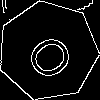O: (23, 25, 84, 84)
